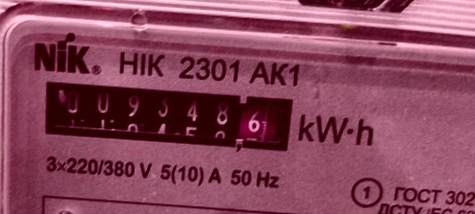0: (64, 89, 81, 116), (95, 88, 110, 115)
3: (156, 93, 171, 119)
4: (182, 93, 202, 124)
6: (245, 105, 264, 136)
8: (214, 98, 231, 127)
9: (125, 93, 141, 121)
screen: (24, 66, 307, 163)
